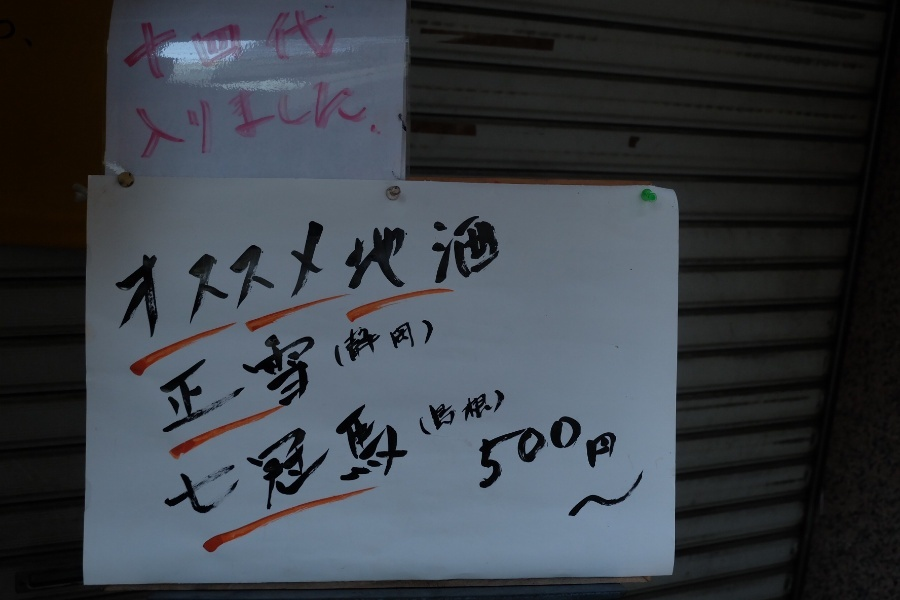text: (161, 364, 176, 565), (177, 364, 192, 565), (193, 364, 208, 565), (209, 364, 224, 565), (225, 364, 240, 565), (241, 364, 256, 565), (257, 364, 272, 565), (273, 364, 288, 565), (289, 364, 304, 565), (305, 364, 320, 565), (321, 364, 336, 565), (337, 364, 352, 565), (353, 364, 368, 565), (369, 364, 384, 565), (385, 364, 400, 565), (401, 364, 416, 565), (417, 364, 432, 565), (433, 364, 448, 565), (449, 364, 464, 565), (465, 364, 480, 565), (481, 364, 496, 565), (497, 364, 512, 565), (161, 297, 176, 438), (177, 297, 192, 438), (193, 297, 208, 438), (209, 297, 224, 438), (225, 297, 240, 438), (241, 297, 256, 438), (257, 297, 272, 438), (273, 297, 288, 438), (289, 297, 304, 438), (305, 297, 320, 438), (321, 297, 336, 438), (337, 297, 352, 438), (353, 297, 368, 438), (369, 297, 384, 438), (385, 297, 400, 438), (401, 297, 416, 438), (417, 297, 432, 438), (113, 205, 128, 345), (129, 205, 144, 345), (145, 205, 160, 345), (161, 205, 176, 345), (177, 205, 192, 345), (193, 205, 208, 345), (209, 205, 224, 345), (225, 205, 240, 345), (241, 205, 256, 345), (257, 205, 272, 345), (273, 205, 288, 345), (289, 205, 304, 345), (305, 205, 320, 345), (321, 205, 336, 345), (337, 205, 352, 345), (353, 205, 368, 345), (369, 205, 384, 345), (385, 205, 400, 345), (401, 205, 416, 345), (417, 205, 432, 345), (433, 205, 448, 345), (449, 205, 464, 345), (465, 205, 480, 345), (481, 205, 496, 345), (433, 297, 447, 438), (481, 393, 496, 494), (497, 393, 512, 494), (513, 393, 528, 494), (529, 393, 544, 494), (545, 393, 560, 494), (561, 393, 576, 494), (577, 393, 592, 494), (593, 393, 608, 494), (145, 66, 160, 164), (161, 66, 176, 164), (177, 66, 192, 164), (193, 66, 208, 164), (209, 66, 224, 164), (225, 66, 240, 164), (241, 66, 256, 164), (257, 66, 272, 164), (273, 66, 288, 164), (289, 66, 304, 164), (305, 66, 320, 164), (321, 66, 336, 164), (337, 66, 352, 164), (353, 66, 368, 164), (153, 364, 160, 565), (102, 205, 112, 345), (369, 66, 382, 164), (129, 1, 144, 85), (145, 1, 160, 85), (161, 1, 176, 85), (177, 1, 192, 85), (193, 1, 208, 85), (209, 1, 224, 85), (225, 1, 240, 85), (241, 1, 256, 85), (257, 1, 272, 85), (273, 1, 288, 85), (289, 1, 304, 85), (305, 1, 320, 85), (321, 1, 336, 85), (609, 393, 621, 494), (132, 66, 144, 164), (152, 297, 160, 438), (497, 205, 505, 345), (118, 1, 128, 85), (479, 393, 480, 494)
